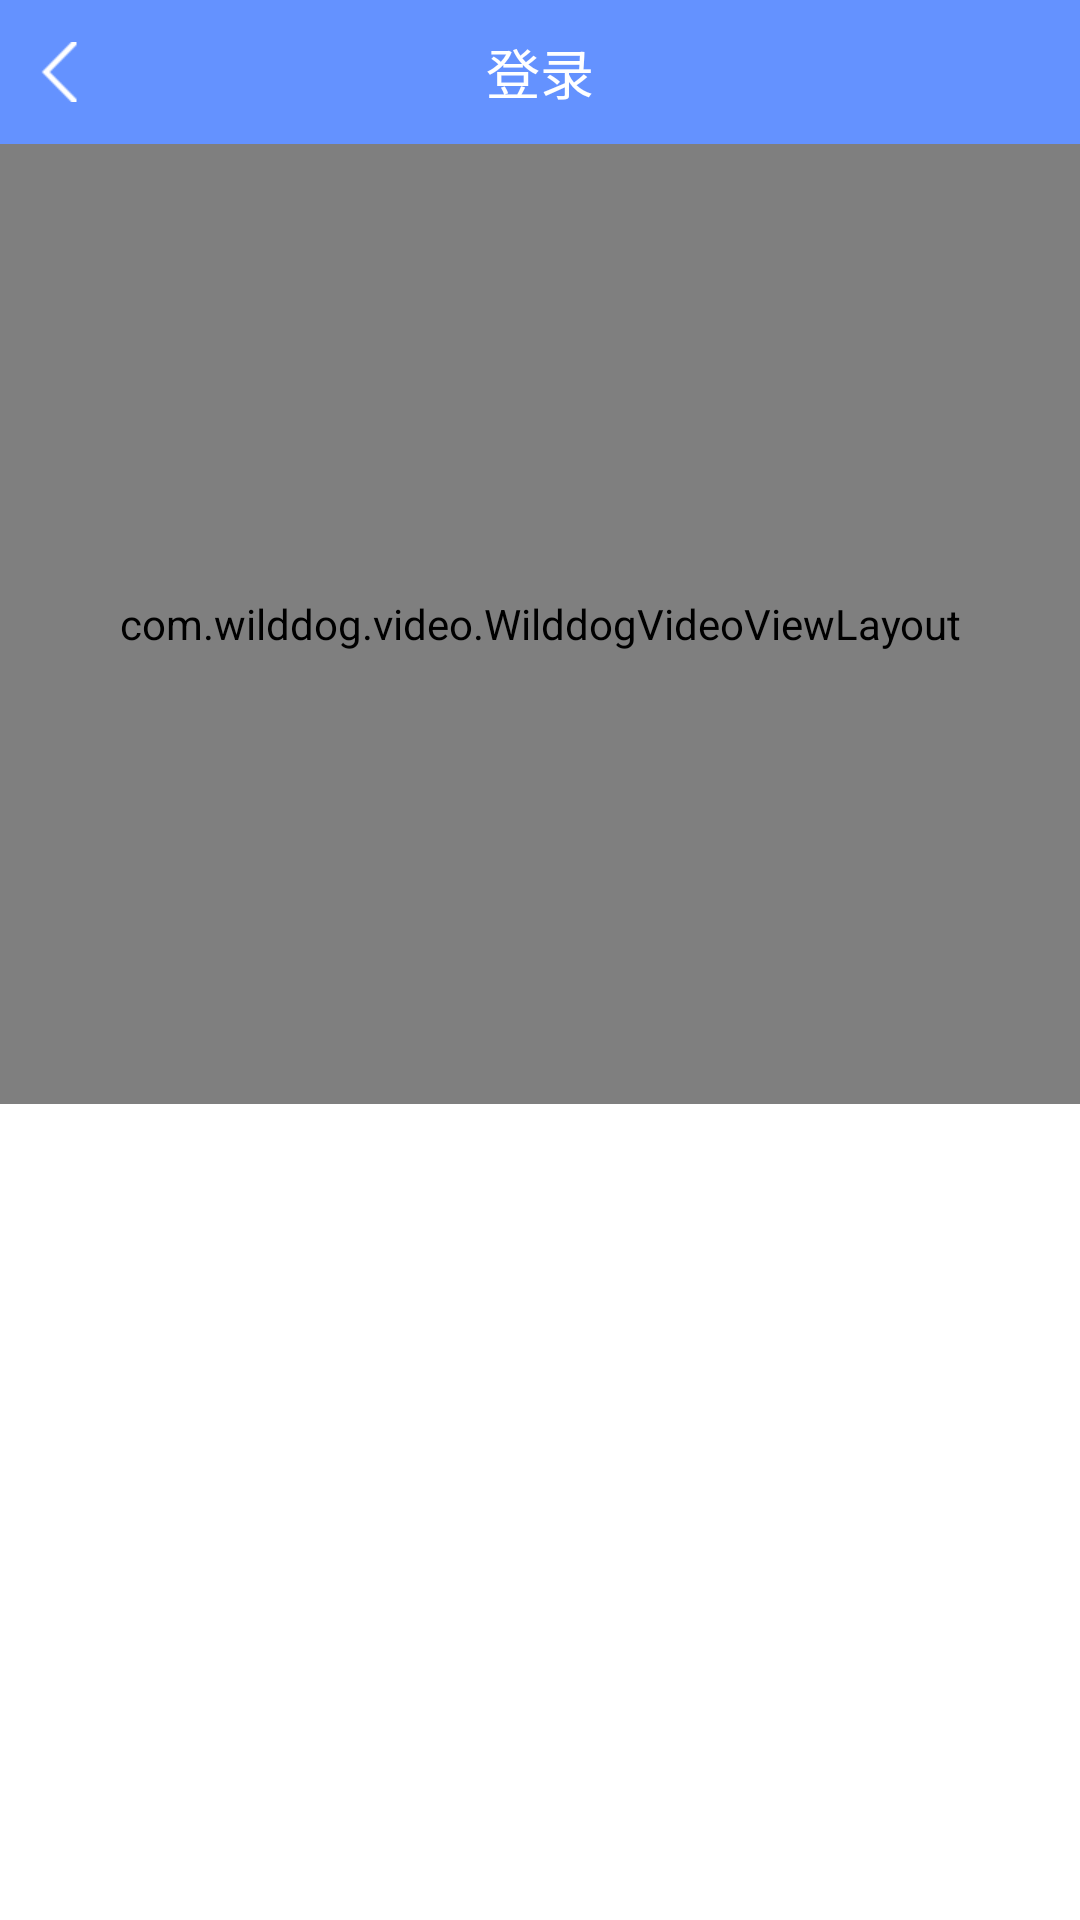

Where icons sit on this 1080x1920 app screen, as (x1, y1, x2, y2):
back: (42, 42, 77, 102)
